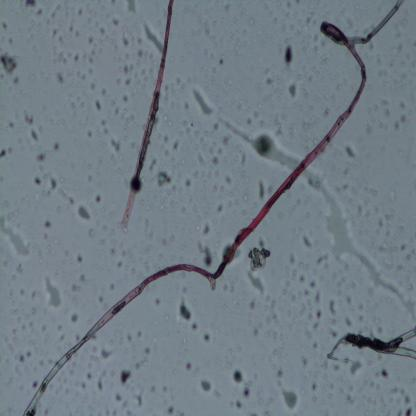Background material: (327, 207, 414, 315), (218, 112, 299, 170), (304, 170, 340, 207), (0, 215, 31, 255), (277, 380, 301, 414), (192, 87, 214, 117), (143, 25, 164, 52), (248, 246, 269, 272), (46, 276, 63, 307), (247, 270, 264, 298), (0, 51, 20, 74), (120, 112, 142, 132), (121, 62, 138, 87), (115, 363, 132, 387), (57, 187, 76, 206), (121, 249, 138, 270), (198, 245, 212, 268), (155, 170, 172, 187), (197, 137, 214, 154), (6, 210, 22, 228), (214, 184, 234, 198), (76, 204, 92, 221), (158, 195, 175, 211), (230, 368, 245, 386), (365, 298, 383, 313), (178, 303, 192, 322), (283, 42, 294, 64), (394, 115, 410, 130), (302, 115, 316, 132), (52, 51, 69, 65), (199, 378, 213, 395), (289, 288, 303, 304), (110, 240, 123, 257), (379, 396, 390, 416), (108, 137, 122, 152), (254, 386, 264, 407), (274, 115, 284, 136), (109, 100, 122, 116), (306, 298, 314, 323), (241, 381, 252, 399), (317, 252, 331, 266), (363, 322, 375, 338), (264, 297, 276, 313), (257, 179, 266, 200), (305, 12, 318, 26), (22, 110, 35, 124), (98, 370, 107, 390), (328, 298, 338, 316), (287, 81, 297, 98), (300, 135, 310, 152), (344, 146, 356, 160), (10, 296, 24, 308), (221, 133, 232, 148), (100, 120, 110, 136), (92, 99, 104, 112), (364, 185, 378, 196), (133, 393, 144, 407), (40, 166, 51, 180), (29, 127, 39, 142), (241, 187, 250, 203), (184, 118, 194, 132), (303, 324, 313, 338), (223, 355, 232, 370), (265, 394, 274, 409), (298, 86, 308, 99), (351, 361, 361, 374), (33, 151, 46, 161), (283, 282, 292, 296), (164, 83, 171, 101), (387, 189, 396, 203), (339, 260, 350, 271), (161, 116, 172, 127), (240, 151, 248, 166), (379, 239, 389, 251), (378, 120, 388, 132), (206, 29, 216, 41), (202, 222, 211, 235), (172, 139, 181, 152), (100, 349, 113, 358), (74, 381, 87, 390), (36, 250, 44, 264), (197, 153, 205, 167), (347, 394, 357, 405), (327, 328, 338, 338), (337, 277, 348, 287), (41, 187, 52, 197), (24, 0, 36, 9), (365, 124, 374, 136), (21, 308, 30, 320), (300, 303, 307, 318), (79, 273, 88, 284), (15, 264, 24, 275), (166, 405, 175, 416), (136, 49, 145, 60), (90, 397, 96, 413), (235, 399, 243, 411), (304, 236, 312, 248), (345, 316, 353, 328), (82, 68, 94, 76), (88, 52, 96, 64), (149, 159, 156, 172), (274, 348, 283, 358), (30, 379, 39, 389), (43, 220, 52, 230), (203, 332, 211, 343), (52, 140, 60, 151), (88, 228, 96, 239), (72, 284, 83, 292), (70, 312, 78, 323), (216, 202, 224, 213), (304, 374, 311, 386), (289, 253, 296, 265), (376, 353, 385, 362), (121, 401, 130, 410), (115, 393, 124, 402), (140, 356, 148, 366), (63, 32, 73, 40), (405, 406, 413, 416), (266, 76, 274, 86), (64, 1, 69, 17), (323, 107, 331, 117), (33, 177, 43, 185), (340, 184, 350, 192), (58, 37, 66, 47), (6, 344, 14, 354), (400, 242, 408, 252), (58, 334, 66, 344), (379, 99, 389, 107), (272, 314, 280, 324), (301, 356, 309, 366), (396, 43, 404, 53), (184, 178, 192, 188), (93, 193, 101, 203), (69, 20, 75, 33), (3, 255, 10, 266), (368, 354, 375, 365), (292, 268, 297, 283), (58, 72, 64, 84), (341, 166, 350, 174), (356, 302, 364, 311), (57, 176, 66, 184), (192, 320, 198, 332), (306, 75, 314, 84), (316, 290, 322, 302), (69, 100, 76, 110), (126, 409, 136, 416), (108, 229, 115, 239), (10, 308, 20, 315), (216, 146, 223, 156), (211, 122, 218, 132), (98, 295, 105, 305), (86, 128, 93, 138), (229, 282, 235, 293), (258, 237, 264, 248), (31, 290, 37, 301), (377, 54, 382, 67), (312, 322, 320, 330), (99, 237, 107, 245), (310, 383, 318, 391), (90, 354, 98, 362), (2, 201, 10, 209), (213, 390, 221, 398), (136, 330, 143, 339), (212, 156, 219, 165), (36, 7, 43, 16), (154, 298, 163, 305), (257, 319, 264, 328), (223, 176, 232, 183), (382, 369, 389, 378), (18, 287, 25, 296), (400, 100, 407, 109), (224, 3, 230, 13), (366, 289, 376, 295), (250, 410, 260, 416), (8, 119, 14, 129), (377, 218, 383, 228), (346, 296, 352, 306), (43, 333, 48, 345), (52, 179, 58, 189), (320, 40, 326, 50), (369, 41, 375, 51), (277, 369, 284, 377), (236, 346, 244, 353), (176, 408, 183, 416), (7, 38, 14, 46), (0, 150, 8, 157), (14, 366, 21, 374), (161, 134, 168, 142), (286, 265, 290, 279), (377, 327, 384, 335), (246, 311, 254, 318), (117, 260, 124, 268), (384, 110, 391, 118), (185, 362, 192, 370), (218, 58, 225, 66), (86, 372, 93, 380), (252, 112, 260, 119), (119, 334, 124, 345), (405, 394, 410, 405), (222, 282, 228, 291), (249, 300, 255, 309), (272, 333, 278, 342), (328, 319, 337, 325), (246, 116, 252, 125), (150, 385, 156, 394), (50, 10, 56, 19), (286, 1, 292, 10), (312, 45, 318, 54), (254, 329, 260, 338), (316, 310, 321, 320), (285, 9, 290, 19), (182, 283, 187, 293), (375, 370, 380, 380), (401, 18, 406, 28), (221, 305, 228, 312), (103, 225, 110, 232), (304, 290, 311, 297), (28, 74, 35, 81), (351, 282, 357, 290), (312, 394, 318, 402), (134, 362, 140, 370), (13, 76, 19, 84), (334, 364, 340, 372), (126, 334, 132, 342), (101, 88, 107, 96), (74, 54, 80, 62), (299, 275, 305, 283), (175, 76, 181, 84), (272, 17, 278, 25), (2, 22, 8, 30), (264, 410, 272, 416), (364, 196, 370, 204), (294, 199, 302, 205), (77, 255, 83, 263), (41, 324, 47, 332), (365, 209, 371, 217), (58, 324, 64, 332), (327, 392, 333, 400), (87, 362, 93, 370), (164, 149, 170, 157), (236, 102, 242, 110), (162, 385, 168, 393), (43, 408, 49, 416), (130, 140, 135, 149), (374, 204, 378, 215), (324, 360, 328, 371), (90, 83, 96, 90), (122, 96, 129, 102), (392, 387, 398, 394), (228, 401, 234, 408), (152, 337, 158, 344), (313, 342, 319, 349), (309, 282, 316, 288), (322, 410, 329, 416), (131, 344, 137, 351), (48, 358, 55, 364), (399, 387, 405, 394), (17, 138, 23, 145), (193, 172, 199, 179), (161, 239, 168, 245), (52, 30, 58, 37), (298, 263, 304, 270), (29, 340, 36, 346), (144, 347, 150, 354), (248, 19, 254, 26), (364, 379, 369, 387), (63, 378, 68, 386), (75, 29, 80, 37), (141, 69, 146, 77), (358, 205, 363, 213), (185, 103, 190, 111), (173, 368, 177, 378), (313, 138, 318, 146), (305, 210, 310, 218), (170, 393, 175, 401), (374, 104, 379, 112), (26, 351, 32, 357), (91, 334, 97, 340), (11, 275, 17, 281), (68, 370, 74, 376), (38, 360, 44, 366), (110, 411, 117, 416), (91, 347, 98, 352), (57, 376, 62, 383), (314, 34, 319, 41), (359, 315, 364, 322), (109, 371, 116, 376), (12, 328, 17, 335), (31, 21, 36, 28), (29, 320, 34, 327), (104, 409, 109, 416), (376, 383, 381, 390), (108, 339, 113, 346), (131, 269, 136, 276), (412, 40, 416, 48), (44, 232, 48, 240), (371, 380, 375, 388), (398, 408, 402, 416), (333, 272, 337, 280), (56, 4, 61, 10), (46, 20, 51, 26), (349, 386, 354, 392), (247, 320, 252, 326), (20, 356, 25, 362), (110, 284, 115, 290), (8, 147, 12, 154), (183, 337, 187, 344), (308, 105, 313, 110), (72, 363, 77, 368), (164, 316, 169, 321), (137, 384, 141, 390), (330, 384, 334, 390), (32, 308, 36, 314), (336, 290, 340, 296), (65, 389, 69, 395), (320, 275, 324, 281), (44, 308, 48, 314), (65, 251, 69, 256), (14, 356, 18, 361), (212, 55, 215, 61), (7, 360, 10, 366), (140, 388, 144, 392), (18, 317, 21, 322)
Cellulose filter fibre: (329, 321, 416, 365)
Cotton: (23, 0, 408, 416), (121, 1, 174, 230)
